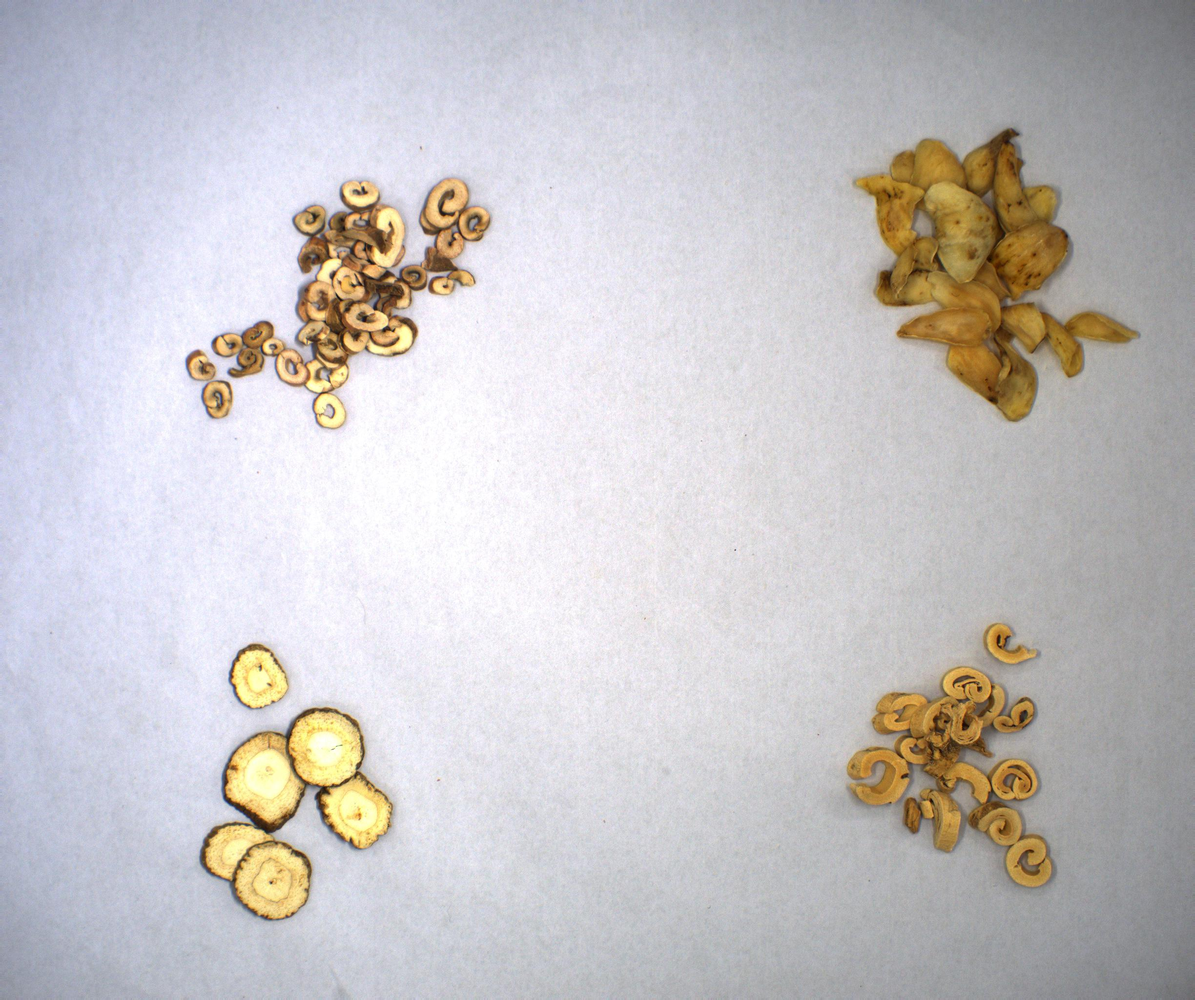baihe: (823, 98, 1184, 461)
baixianpi: (805, 600, 1122, 983)
baizhi: (173, 609, 413, 971)
mudanpi: (182, 152, 529, 471)
